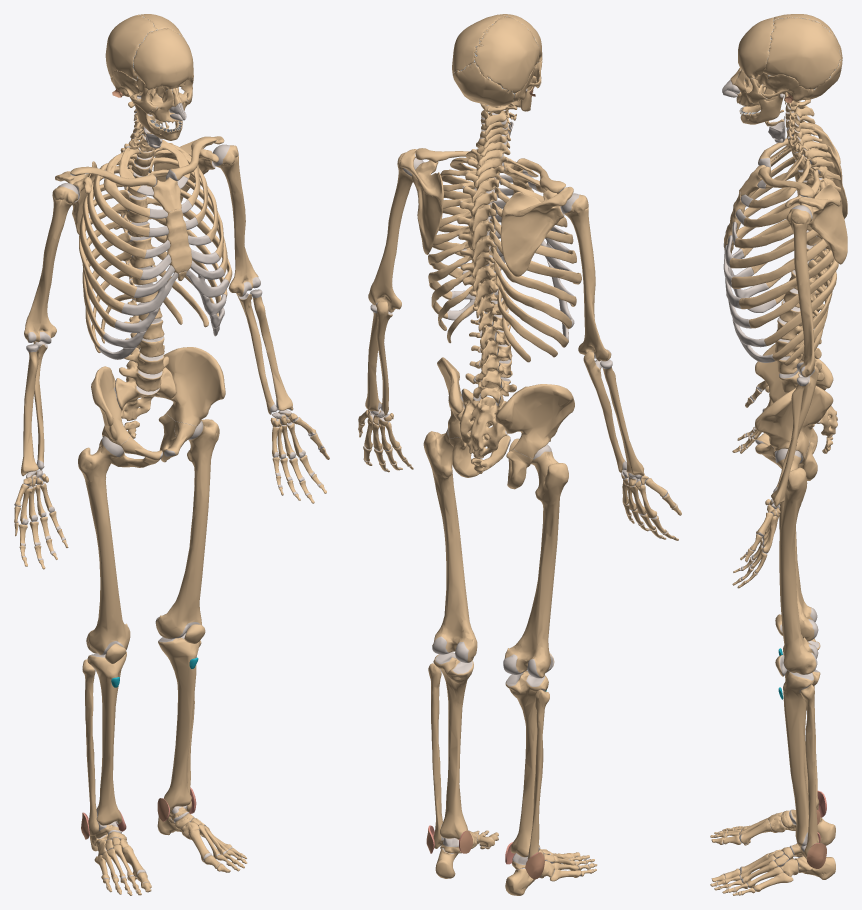
Rendered from bone.glb.
3 views of the same model, side by side, from view 1: azimuth 30°, elevation 25°; view 2: azimuth 150°, elevation 25°; view 3: azimuth 270°, elevation 25° (orthographic). The views are drawn at different scales.
Visible parts, largest first — view 1: bo0073, bo0072, bo0101, bo0231, bo0097, bo0232, bo0105, bo0104, bo0102, bo0163, bo0198, bo0076 (+19 smaller); view 2: bo0073, bo0072, bo0102, bo0203, bo0163, bo0231, bo0232, bo0105, bo0104, bo0101, bo0202, bo0198 (+14 smaller); view 3: bo0072, bo0162, bo0101, bo0231, bo0104, bo0202, bo0075, bo0097, bo0102, bo0196, bo0073, bo0209 (+29 smaller).
Boxes of the visible parts, left/top/right/bottom form: bo0073: left=78, top=436, right=130, bottom=655; bo0072: left=155, top=419, right=219, bottom=639; bo0101: left=158, top=347, right=225, bottom=462; bo0231: left=158, top=633, right=200, bottom=811; bo0097: left=133, top=28, right=193, bottom=91; bo0232: left=87, top=652, right=126, bottom=825; bo0105: left=24, top=183, right=78, bottom=344; bo0104: left=212, top=144, right=260, bottom=296; bo0102: left=91, top=366, right=162, bottom=467; bo0163: left=105, top=15, right=157, bottom=79; bo0198: left=115, top=367, right=175, bottom=420; bo0076: left=82, top=659, right=99, bottom=835; bo0073: left=503, top=444, right=568, bottom=678; bo0072: left=423, top=428, right=477, bottom=662; bo0102: left=495, top=384, right=574, bottom=489; bo0203: left=500, top=187, right=573, bottom=276; bo0163: left=474, top=16, right=539, bottom=93; bo0231: left=433, top=652, right=473, bottom=839; bo0232: left=505, top=671, right=548, bottom=857; bo0105: left=561, top=193, right=611, bottom=361; bo0104: left=368, top=152, right=423, bottom=312; bo0101: left=437, top=357, right=510, bottom=477; bo0202: left=400, top=149, right=443, bottom=254; bo0198: left=459, top=388, right=507, bottom=458; bo0072: left=775, top=448, right=818, bottom=674; bo0162: left=763, top=17, right=840, bottom=89; bo0101: left=755, top=386, right=833, bottom=480; bo0231: left=783, top=669, right=820, bottom=846; bo0104: left=786, top=205, right=815, bottom=377; bo0202: left=785, top=183, right=847, bottom=264; bo0075: left=800, top=684, right=817, bottom=857; bo0097: left=738, top=17, right=774, bottom=78; bo0102: left=755, top=343, right=833, bottom=453; bo0196: left=771, top=377, right=808, bottom=506; bo0073: left=779, top=470, right=818, bottom=641; bo0209: left=739, top=249, right=834, bottom=309.
Bounding box in the file's own units: 0.6692 × 1.7 × 0.2501.
